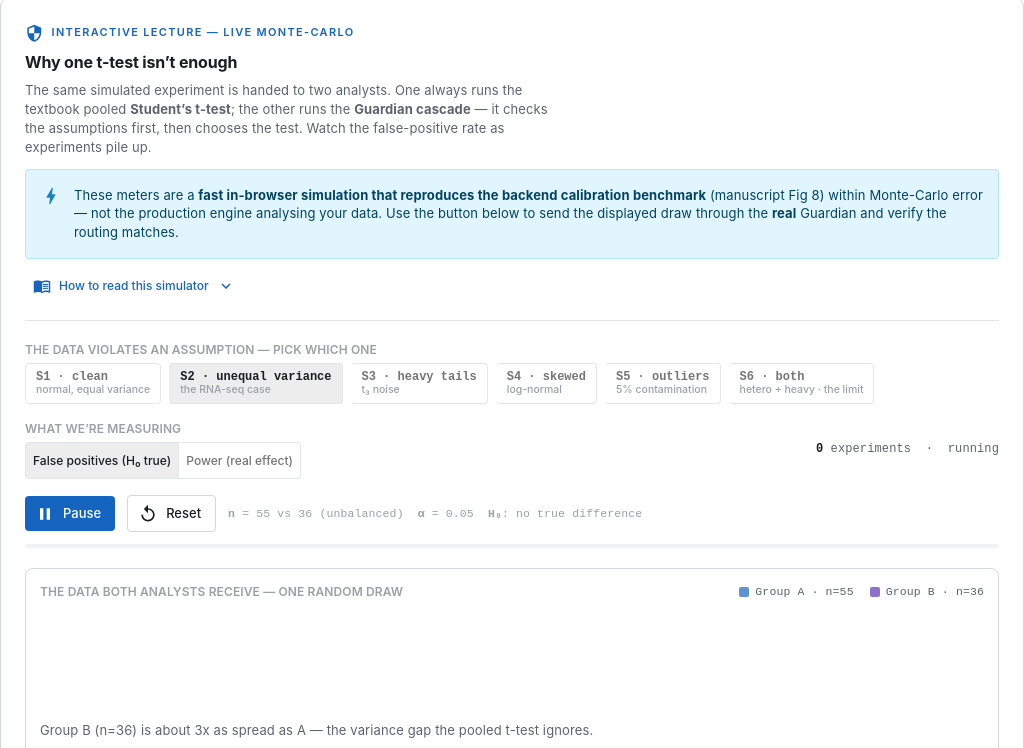
Test: GuardianCascadeSimulator › switches scenario when a scenario toggle is pressed
The image size is (1024, 748).
Click the button "S6 · both hetero + heavy · the limit".
click(802, 384)  # box [729,363,874,404]
(page scrolled)
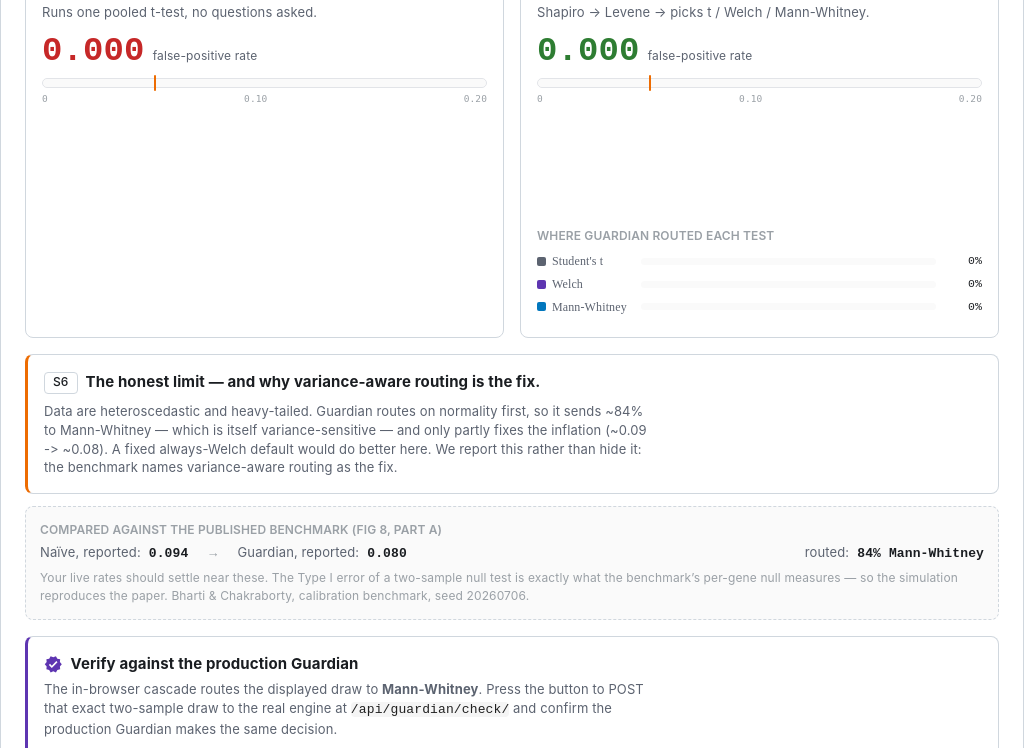
Result: the heading "why variance-aware routing is the fix" is shown at [86,372,540,391]
